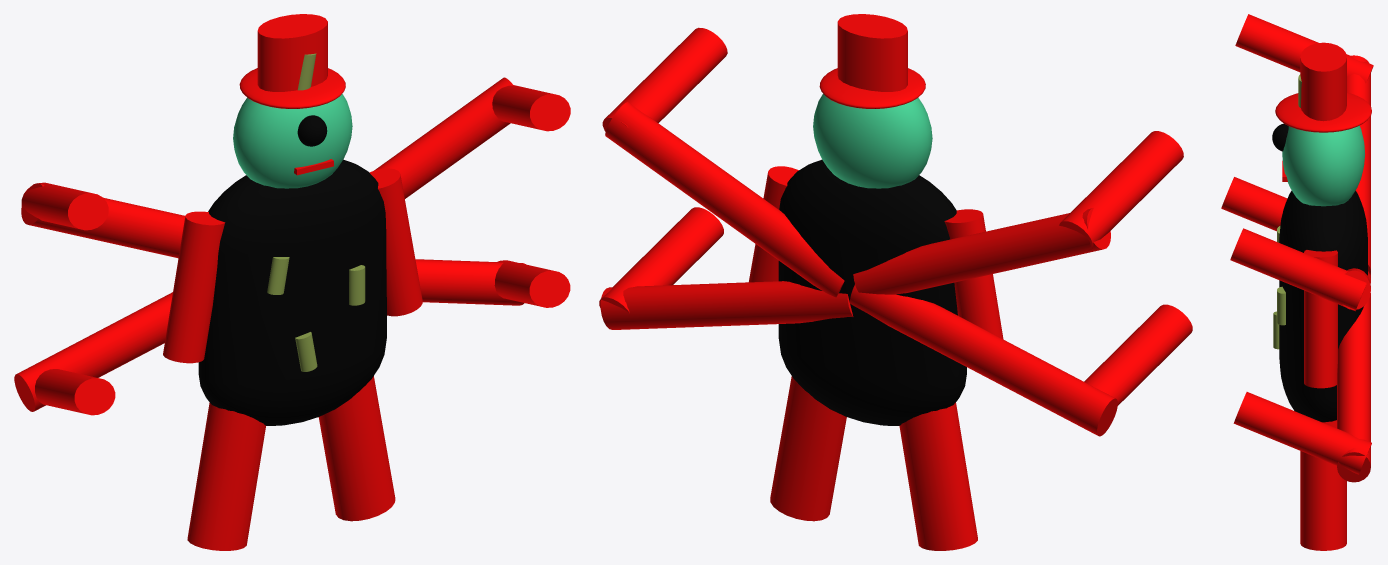
Rendered from Enemy.fbx.
The picture shows the model from 3 angles, left to right: view 1: azimuth 30°, elevation 25°; view 2: azimuth 150°, elevation 25°; view 3: azimuth 270°, elevation 25°; orthographic projection. The views are drawn at different scales.
Visible parts, largest first — view 1: Body__1_, Cylinder, Head__1_, Cylinder__1_, Hanbds, Hanbds__7_, Hanbds__5_, Hat, Hanbds__6_, Hanbds_1, Hanbds__8_, Hanbds__11_ (+5 smaller); view 2: Body__1_, Hanbds__7_, Hanbds__5_, Hanbds__8_, Hanbds__6_, Head__1_, Cylinder, Cylinder__1_, Hanbds__11_, Hat, Hanbds__12_, Hanbds__9_ (+4 smaller); view 3: Body__1_, Head__1_, Hanbds__9_, Hanbds__10_, Hanbds__8_, Cylinder__1_, Hanbds_1, Hat, Hanbds__11_, Hanbds__12_, Hat__1_, Hanbds__6_ (+4 smaller).
Part boxes in pixels (x1,y1,x2,y2): Body__1_: (198,159,386,425); Cylinder: (187,402,265,550); Head__1_: (233,93,352,188); Cylinder__1_: (318,376,395,521); Hanbds: (163,211,225,363); Hanbds__7_: (14,292,172,411); Hanbds__5_: (374,77,513,198); Hat: (257,14,327,91); Hanbds__6_: (21,183,185,258); Hanbds_1: (369,168,422,316); Hanbds__8_: (415,259,525,305); Hanbds__11_: (21,182,108,230); Body__1_: (778,159,966,425); Hanbds__7_: (850,284,1117,436); Hanbds__5_: (605,102,844,297); Hanbds__8_: (600,281,853,329); Hanbds__6_: (853,208,1110,294); Head__1_: (813,94,932,188); Cylinder: (899,402,977,550); Cylinder__1_: (770,376,846,521); Hanbds__11_: (1059,131,1183,251); Hat: (837,14,907,91); Hanbds__12_: (1084,304,1192,405); Hanbds__9_: (602,27,727,131); Body__1_: (1279,190,1367,422); Head__1_: (1282,125,1364,206); Hanbds__9_: (1230,228,1368,311); Hanbds__10_: (1233,392,1371,474); Hanbds__8_: (1337,293,1370,482); Cylinder__1_: (1300,420,1346,550); Hanbds_1: (1304,250,1337,388); Hat: (1300,42,1346,121); Hanbds__11_: (1235,14,1373,83); Hanbds__12_: (1221,177,1287,231); Hat__1_: (1275,92,1371,132); Hanbds__6_: (1347,55,1370,274).
Bounding box in the file's own units: 3395 × 3129 × 945.
